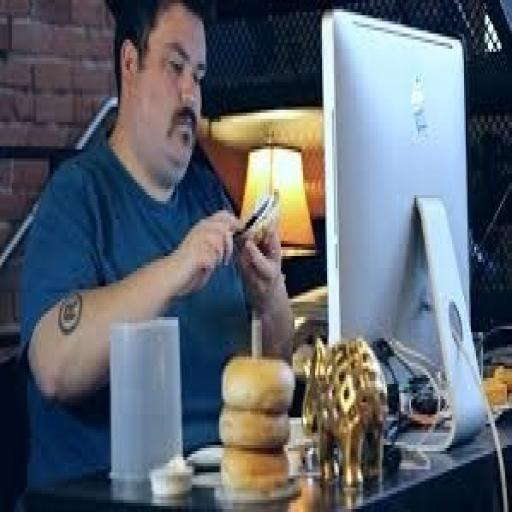eating: (17, 0, 298, 494)
